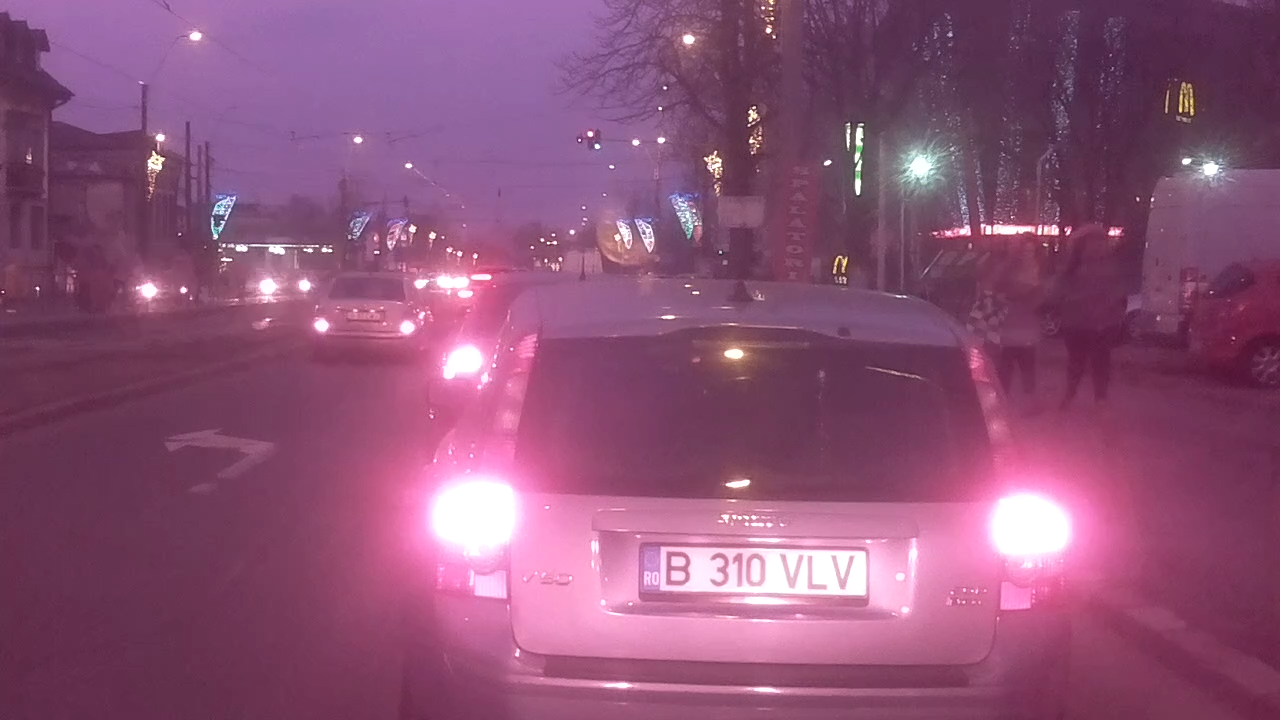license-plate: (630, 536, 878, 606)
